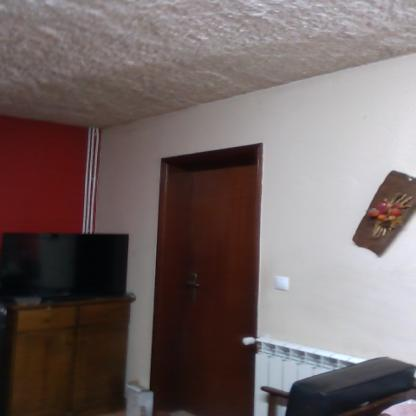door: (175, 167, 252, 415)
lever: (184, 282, 201, 289)
